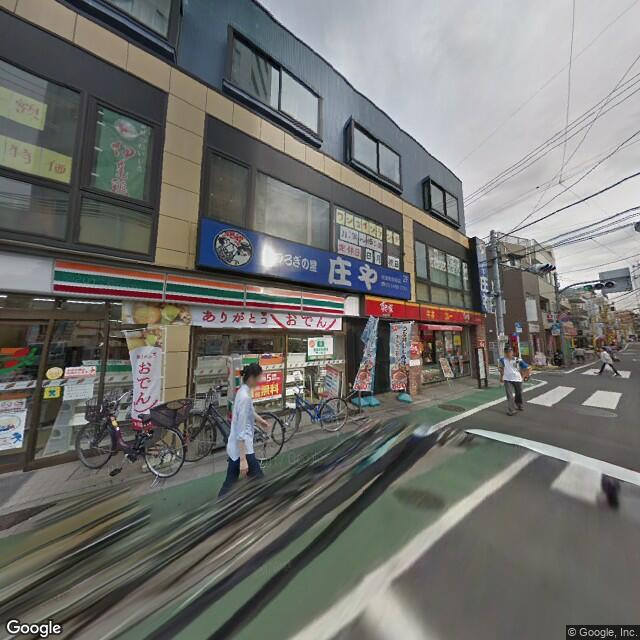7-eleven: (49, 254, 346, 322)
